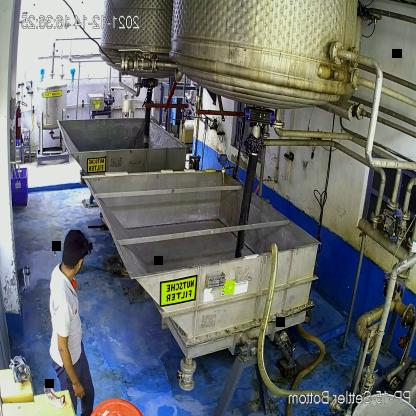no_glove: (56, 341, 88, 402)
